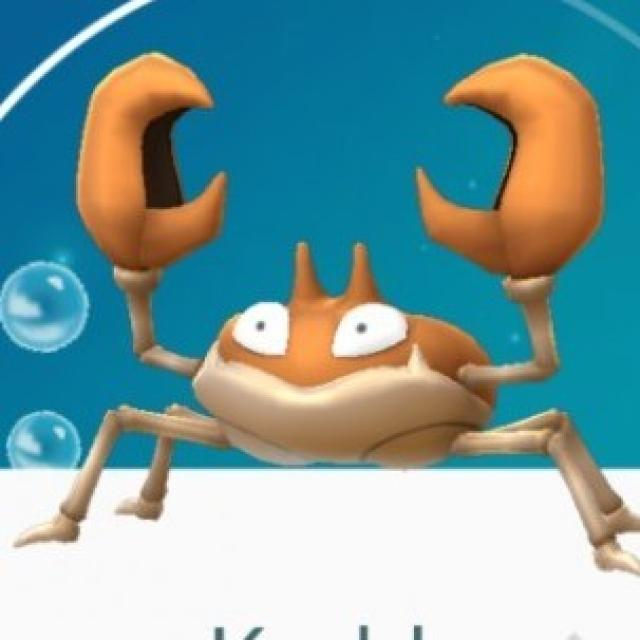Krabby: (79, 105, 586, 524)
